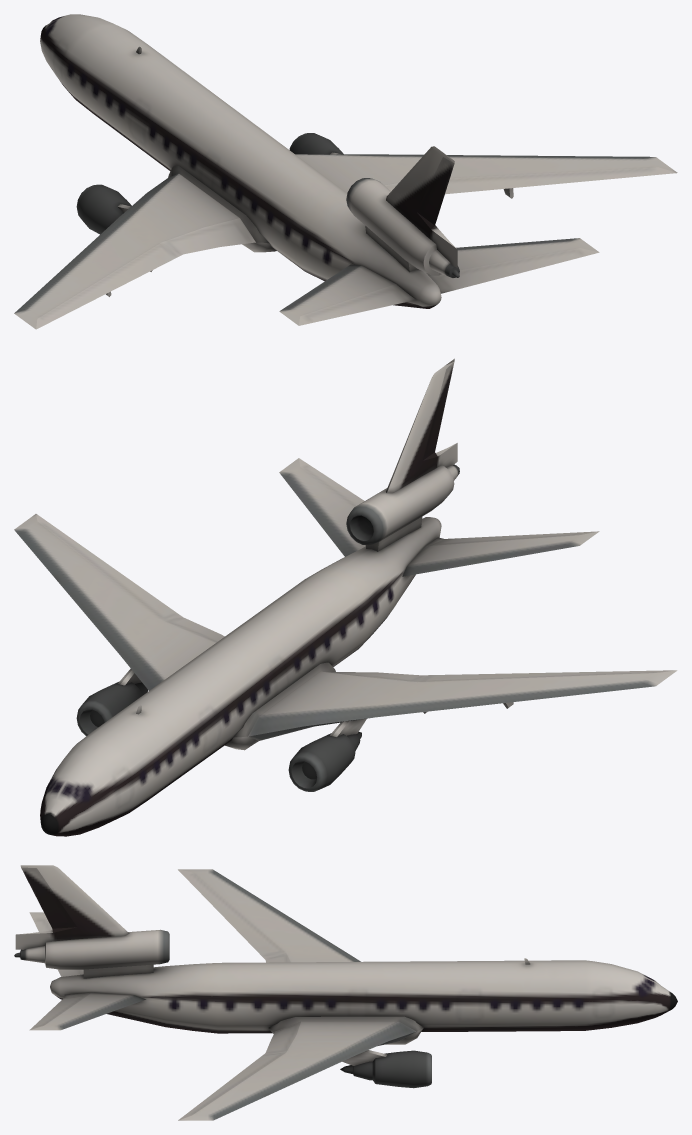
3 views of the same model, one above another, from view 1: azimuth 30°, elevation 25°; view 2: azimuth 150°, elevation 25°; view 3: azimuth 270°, elevation 25° (orthographic). The views are drawn at different scales.
Visible parts, largest first — view 1: hull; view 2: hull; view 3: hull.
Part boxes in pixels (x1,y1,x2,y2): hull: (14,14,677,329); hull: (14,358,677,836); hull: (14,865,677,1120).
Size of the model in its own units: 50.15 by 16.73 by 55.99.
Materials: 1 (1 with a texture image).
